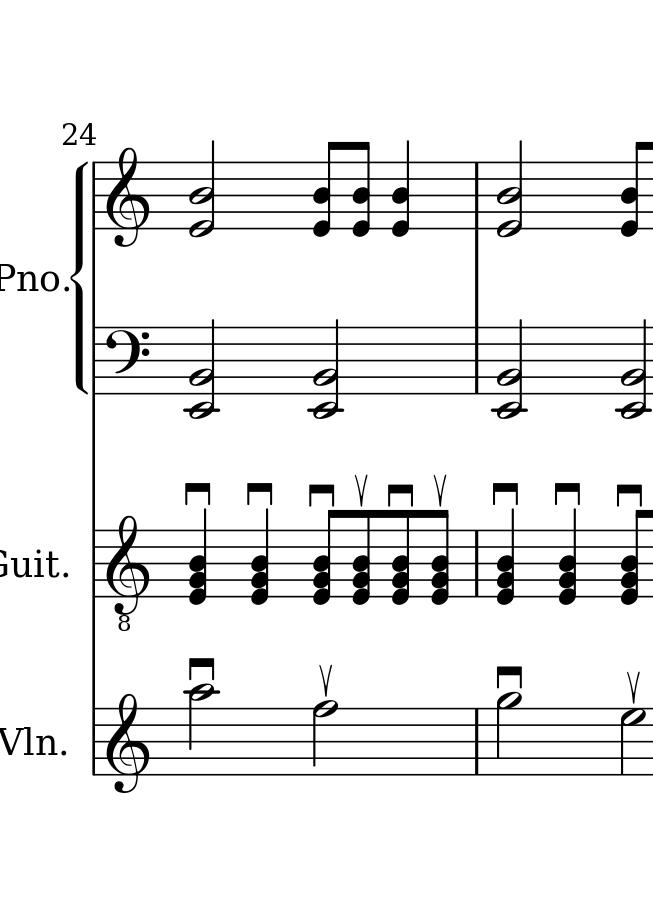2: (61, 121, 78, 147)
2_-2_2: (181, 319, 222, 420), (306, 319, 347, 420), (488, 318, 529, 419), (612, 318, 653, 419)
2_0_4: (188, 141, 216, 238), (496, 141, 524, 238)
2_10: (184, 682, 218, 780)
2_7: (617, 706, 647, 777)
2_8: (311, 699, 340, 778)
2_9: (495, 692, 524, 778)
4: (79, 121, 97, 147)
4_0_4: (392, 139, 412, 238)
4_th: (186, 507, 208, 607), (556, 507, 578, 607), (249, 506, 270, 609), (496, 506, 517, 609)
8_0_4: (620, 140, 650, 237), (312, 140, 342, 237), (351, 141, 373, 238)
8_th: (618, 506, 649, 608), (312, 509, 341, 606), (351, 509, 373, 607), (392, 508, 413, 608), (431, 509, 450, 607)
Brace: (70, 158, 90, 393)
Down_bow: (181, 481, 213, 508), (384, 483, 417, 507), (492, 480, 520, 508), (553, 481, 581, 509), (187, 654, 215, 682), (244, 481, 274, 507), (616, 482, 646, 508), (496, 664, 526, 690), (307, 483, 337, 508)
Fclef: (105, 325, 154, 398)
Gclef: (104, 144, 152, 249), (104, 691, 151, 797)
Guit: (1, 545, 62, 585)
Lower_Gclef: (104, 512, 152, 634)
Pno: (1, 260, 59, 295)
Single_barline: (468, 163, 486, 229), (87, 164, 103, 229), (469, 328, 485, 393), (469, 530, 484, 597), (469, 709, 484, 774), (88, 328, 103, 392), (88, 708, 101, 776), (88, 530, 100, 599)
Tremolo_bar: (318, 664, 334, 700), (354, 473, 369, 505), (433, 472, 446, 508), (626, 669, 640, 702)
Vln: (1, 722, 58, 763)
